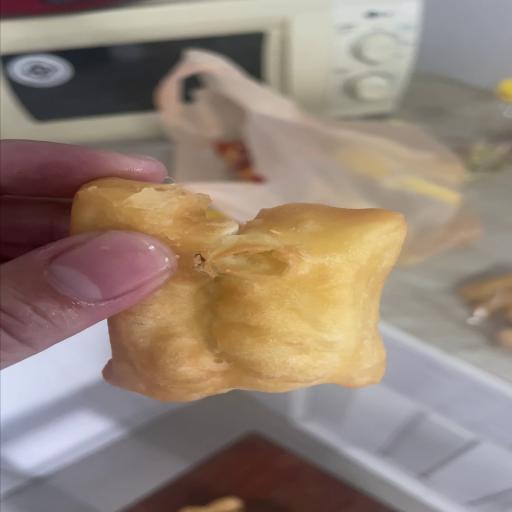street_golden_defect: (68, 177, 404, 400)
